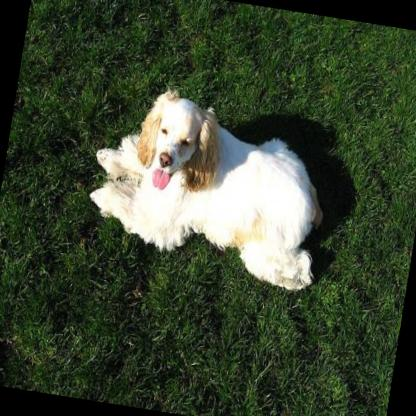cocker_spaniel: (75, 75, 340, 294)
